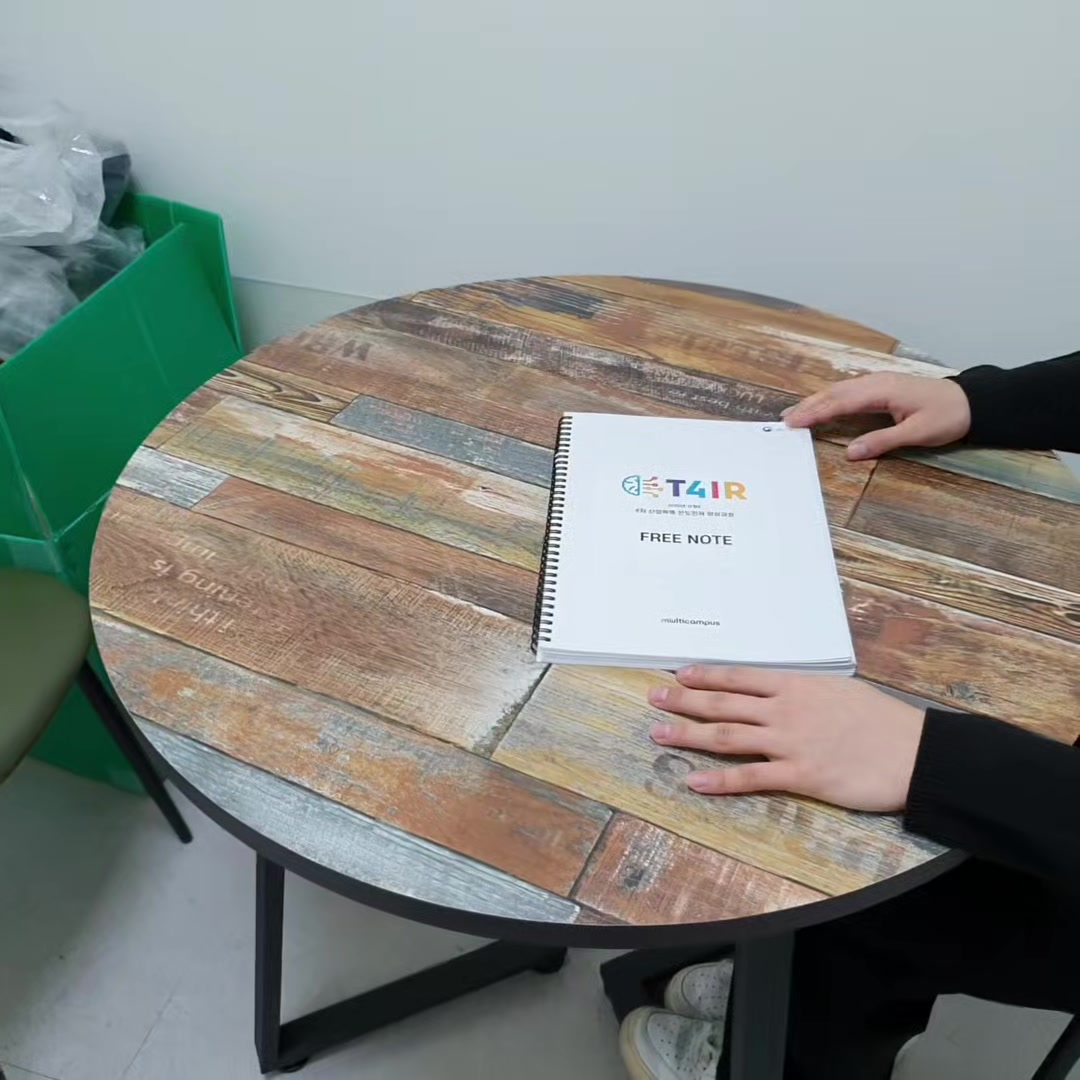book: (561, 420, 843, 661)
